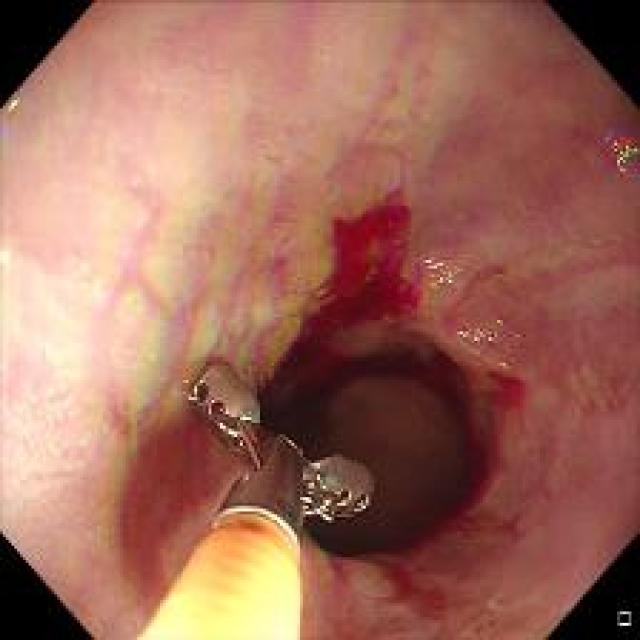blood: (314, 182, 402, 324)
color misalignment: (445, 314, 521, 361), (594, 115, 639, 184), (406, 248, 462, 295), (5, 94, 29, 124)
contrast: (252, 338, 478, 568)
instrument: (125, 358, 376, 626)
saturation: (0, 231, 112, 444)
specularity: (212, 504, 299, 549), (300, 492, 332, 524), (331, 486, 370, 512), (215, 420, 242, 441), (306, 472, 332, 492), (238, 408, 256, 424), (314, 460, 321, 469)
